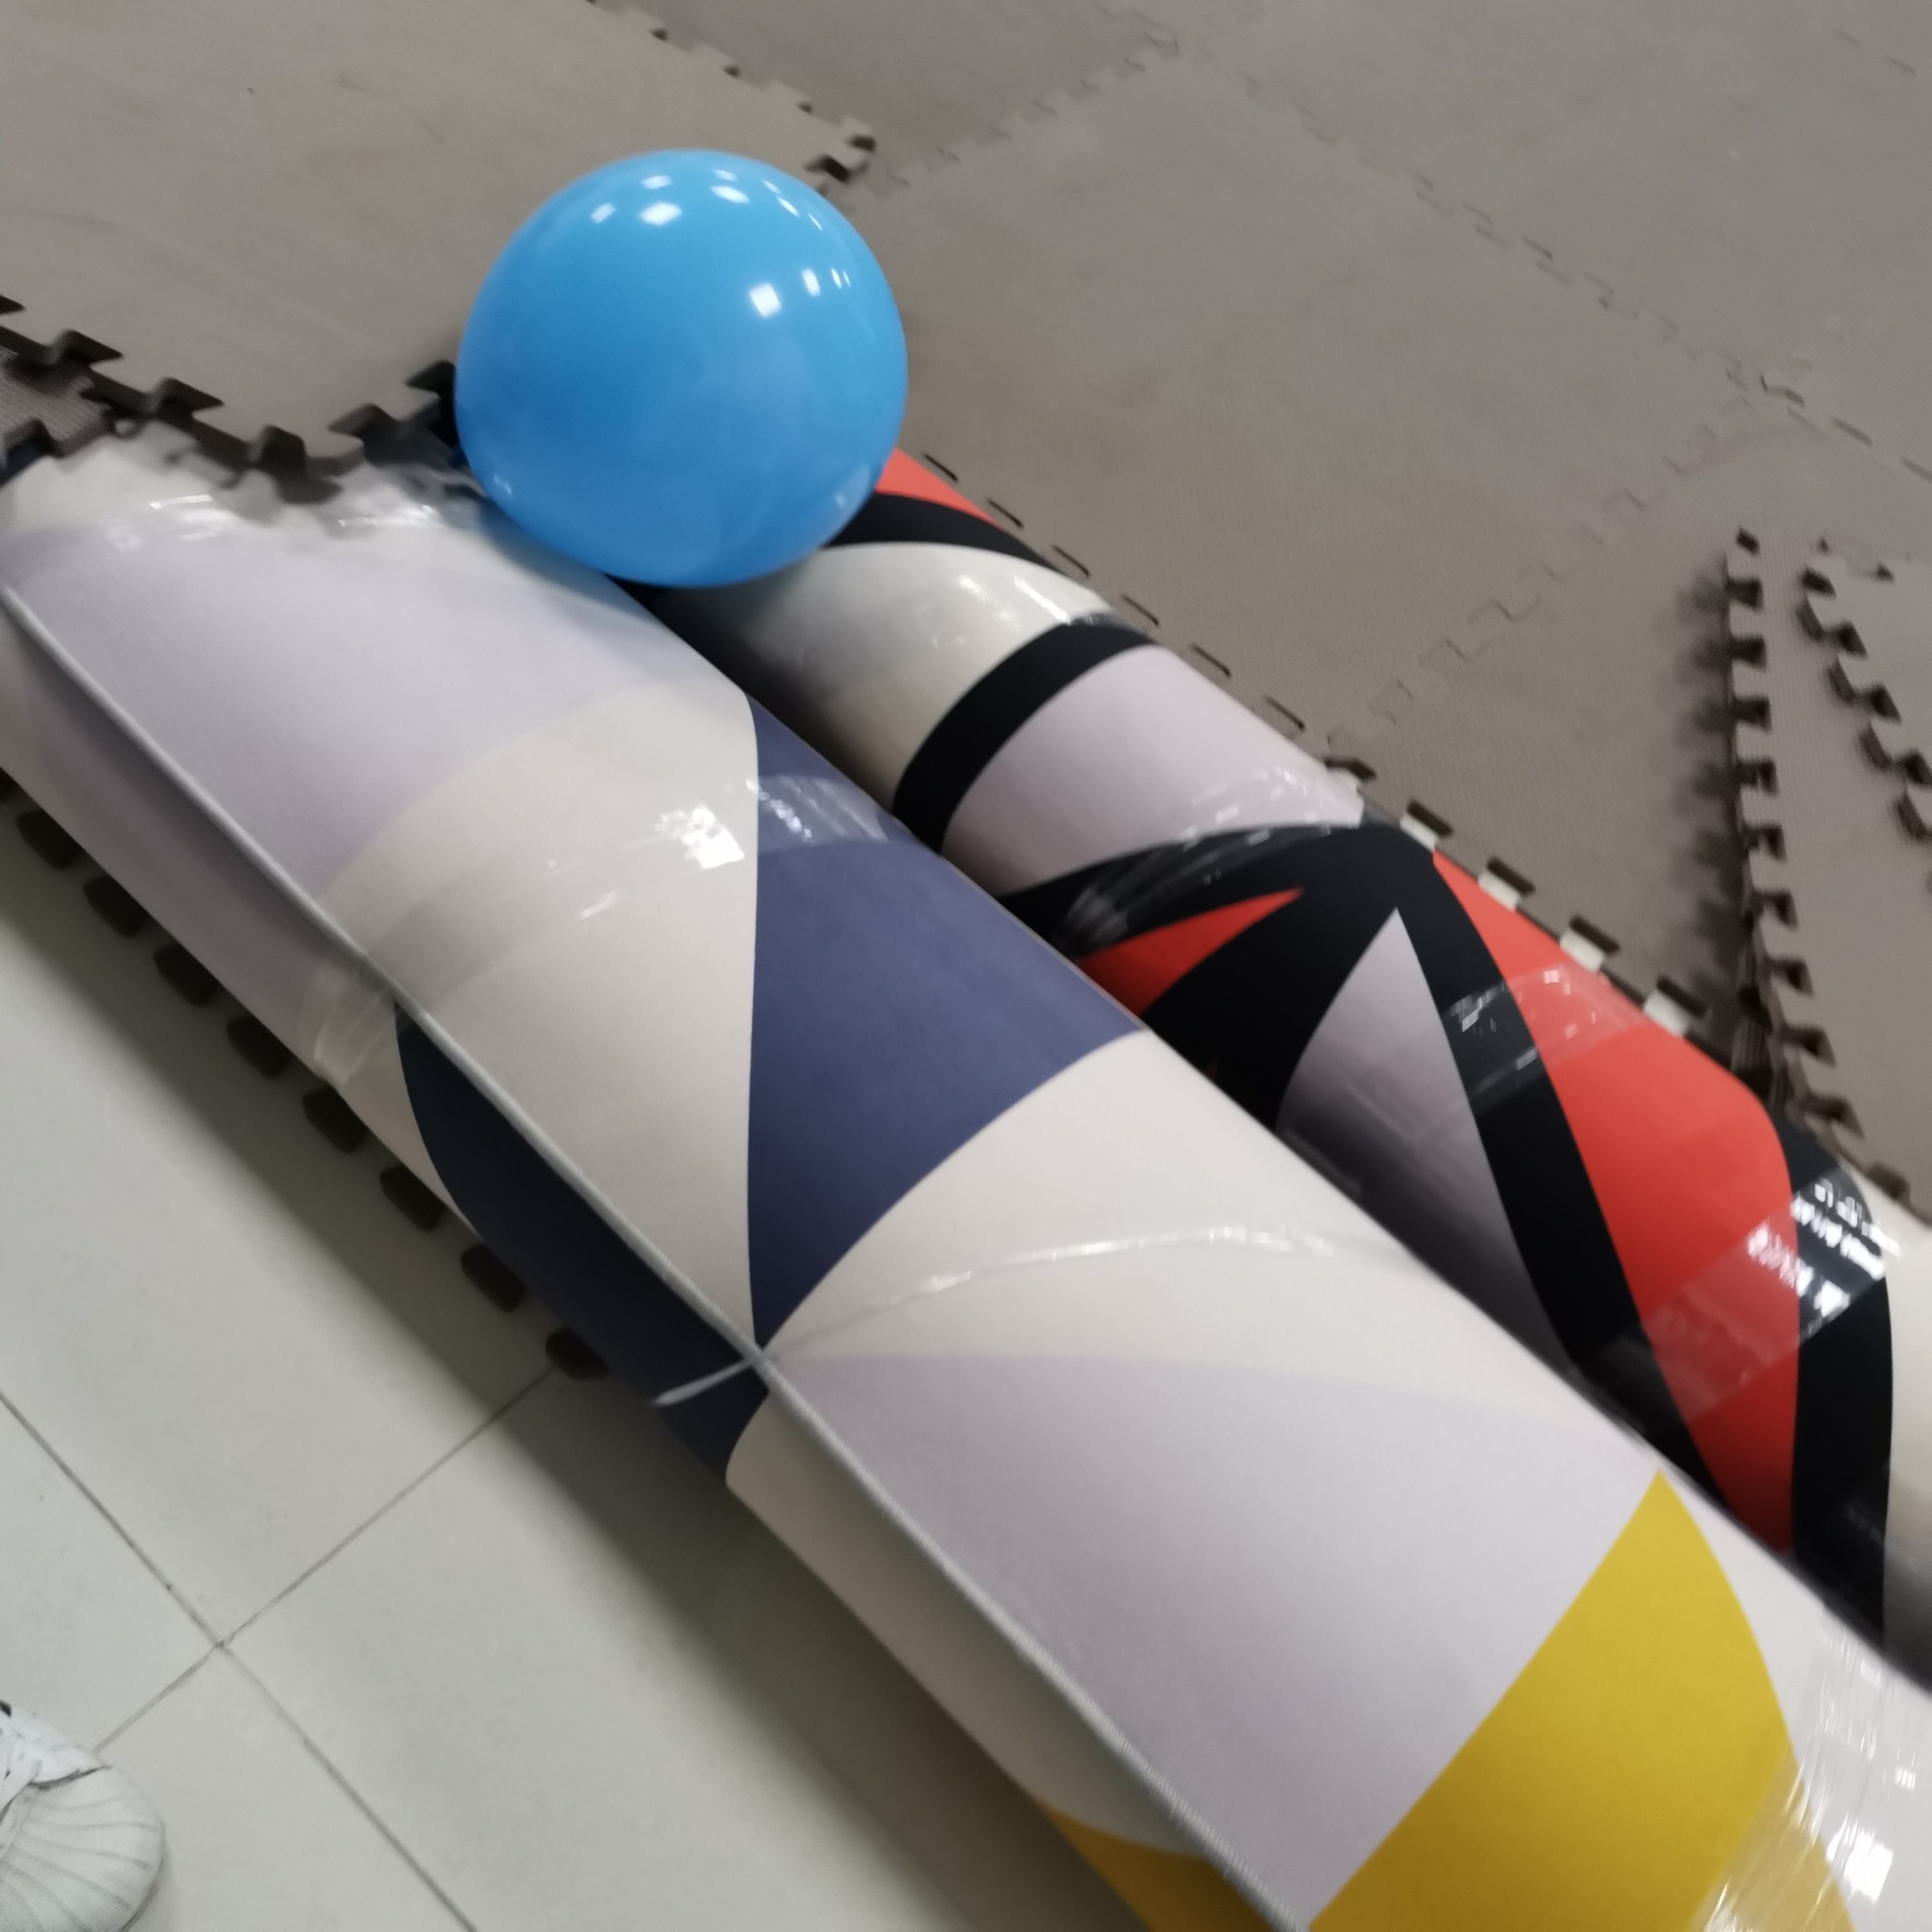balloon: (456, 149, 913, 580)
